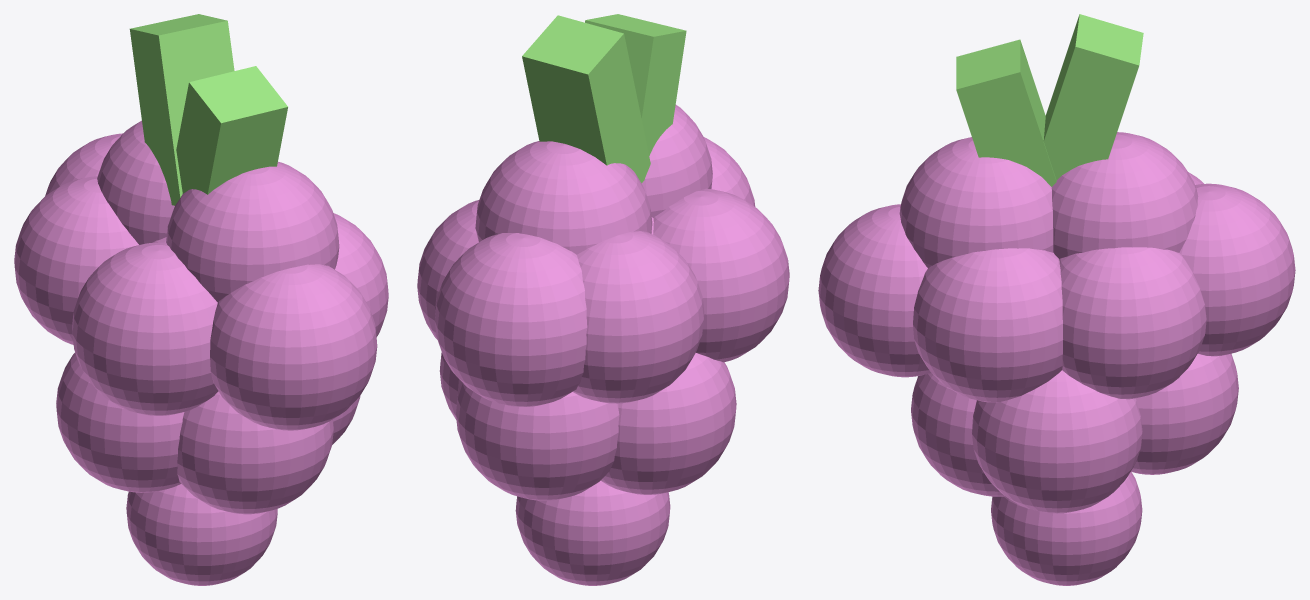
The model's file is berrycollectible.fbx.
3 renders of one model, left to right at view 1: azimuth 30°, elevation 25°; view 2: azimuth 150°, elevation 25°; view 3: azimuth 270°, elevation 25°, orthographic. The views are drawn at different scales.
Visible parts, largest first — view 1: Sphere.006; view 2: Sphere.006; view 3: Sphere.006.
Part boxes in pixels (x1,y1,x2,y2): Sphere.006: (14,14,388,585); Sphere.006: (417,14,789,585); Sphere.006: (818,14,1295,585).
Bounding box in the file's own units: 71.93 × 128 × 101.
